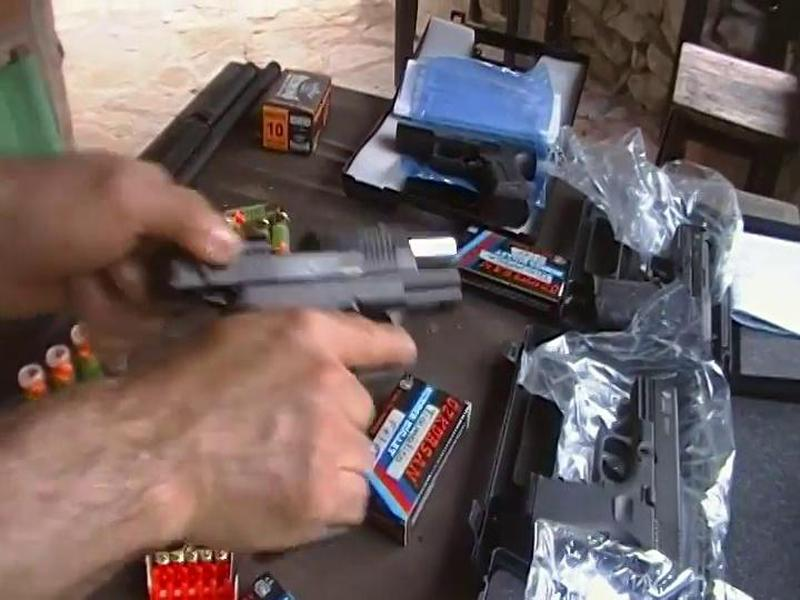Pistola: (163, 216, 482, 406)
